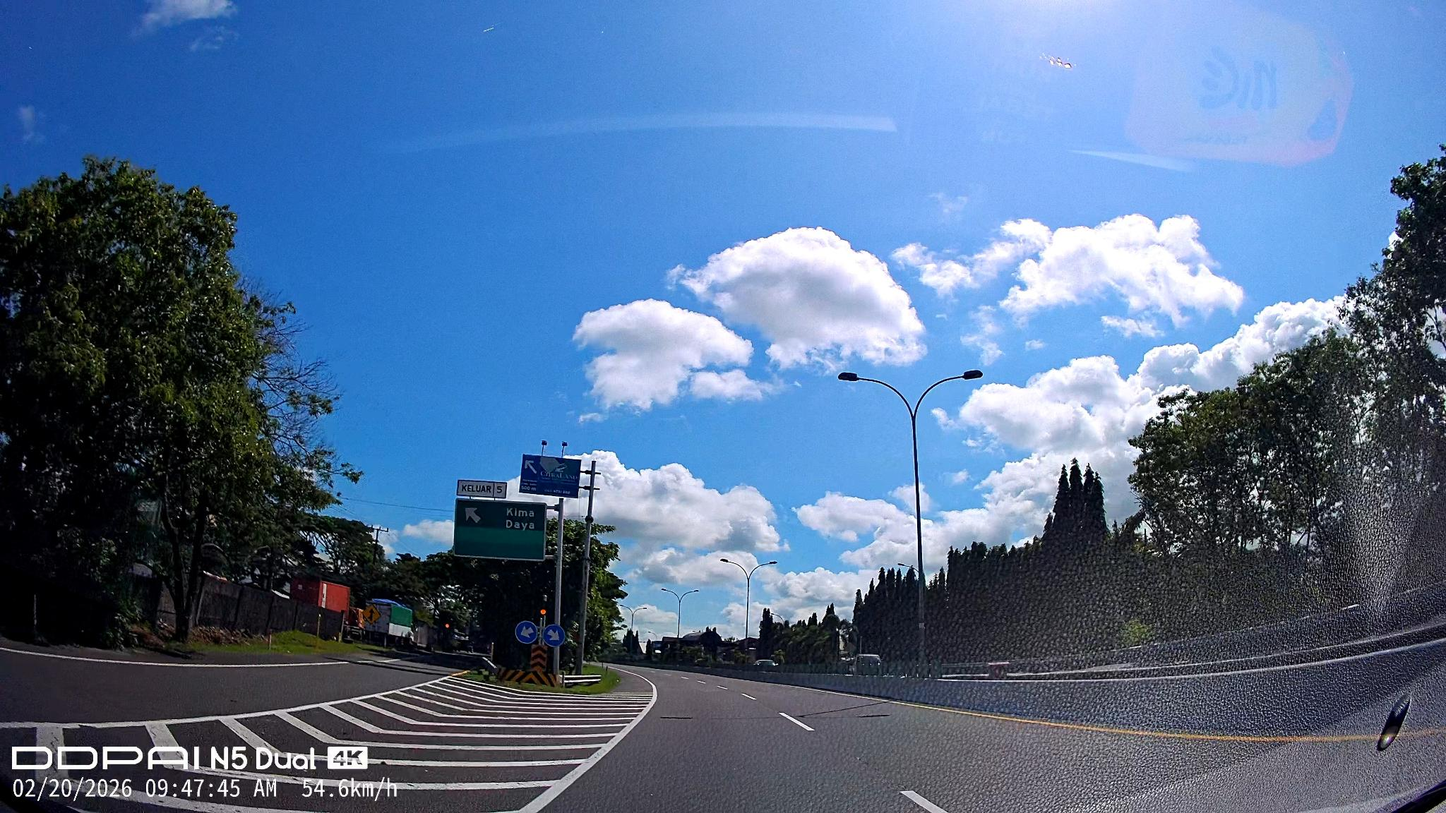rambu_teks: (453, 499, 546, 563)
